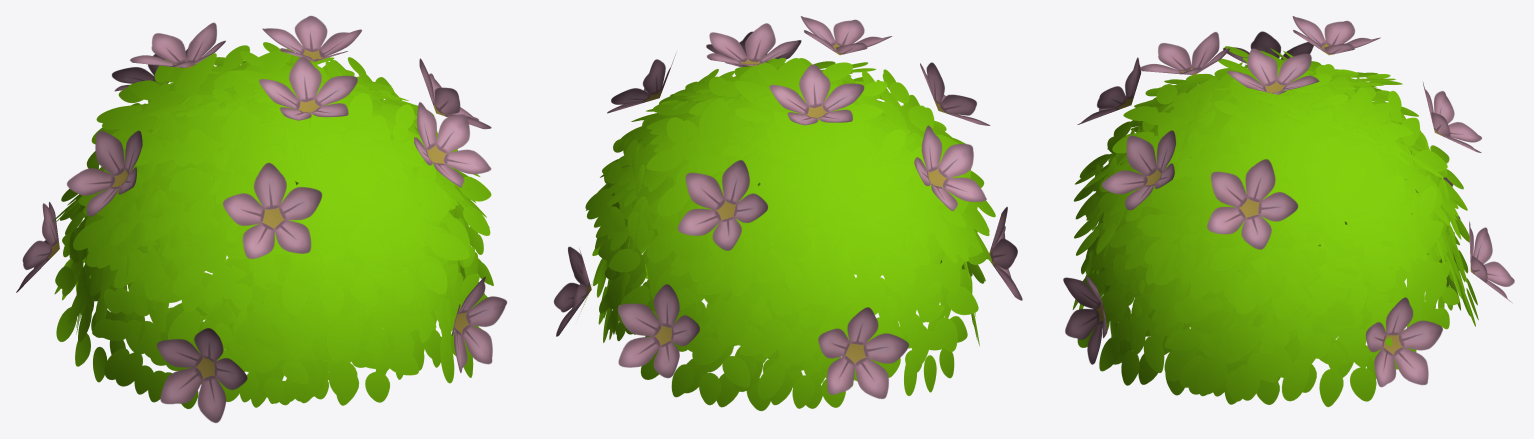
Rendered from bush-flowers.glb.
3 renders of one model, left to right at view 1: azimuth 30°, elevation 25°; view 2: azimuth 150°, elevation 25°; view 3: azimuth 270°, elevation 25°, orthographic. The views are drawn at different scales.
Visible parts, largest first — view 1: Bush_Flowers; view 2: Bush_Flowers; view 3: Bush_Flowers.
Boxes of the visible parts, bbox=[...] form: Bush_Flowers: bbox=[16, 15, 507, 422]; Bush_Flowers: bbox=[554, 16, 1022, 410]; Bush_Flowers: bbox=[1063, 16, 1514, 406].
Bounding box in the file's own units: 1.09 × 0.7585 × 1.11.
Materials: 2 (2 with a texture image).
